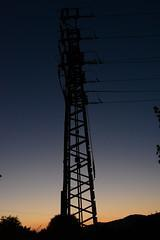power_tower: (52, 11, 107, 227)
